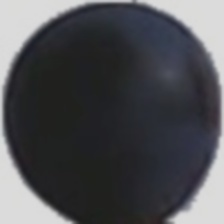grapes: (16, 24, 181, 183)
